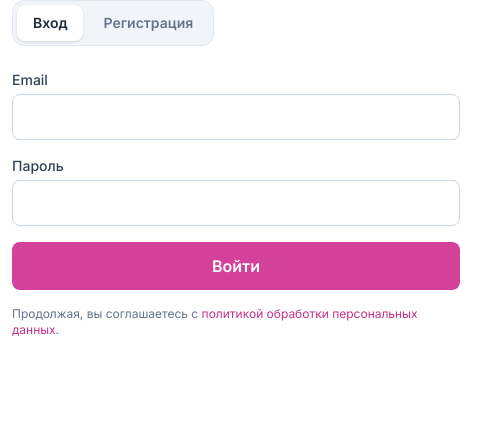
Scenario: AuthForm › checks the email and password before sending anything
Type "short" into the password field labelled "Пароль" at (236, 203), box [12,180,460,226]
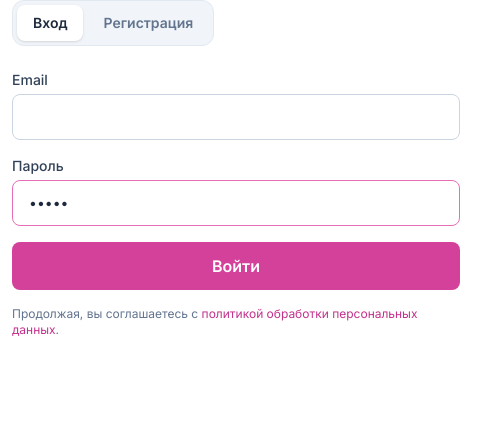
Click the button "Войти" at (236, 266), box [12,242,460,290]
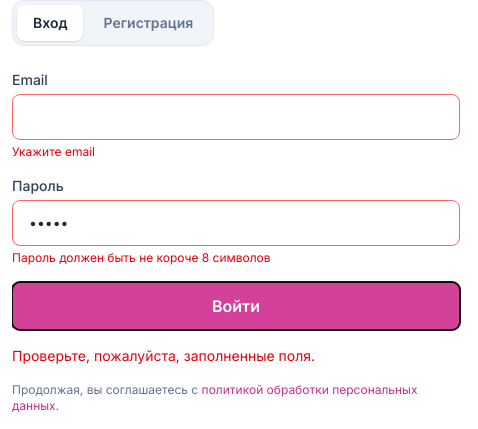
Expected: the text "Укажите email" is shown, [12,144,95,159]
Expected: the text "Пароль должен быть не короче 8 символов" is shown, [12,250,271,265]
